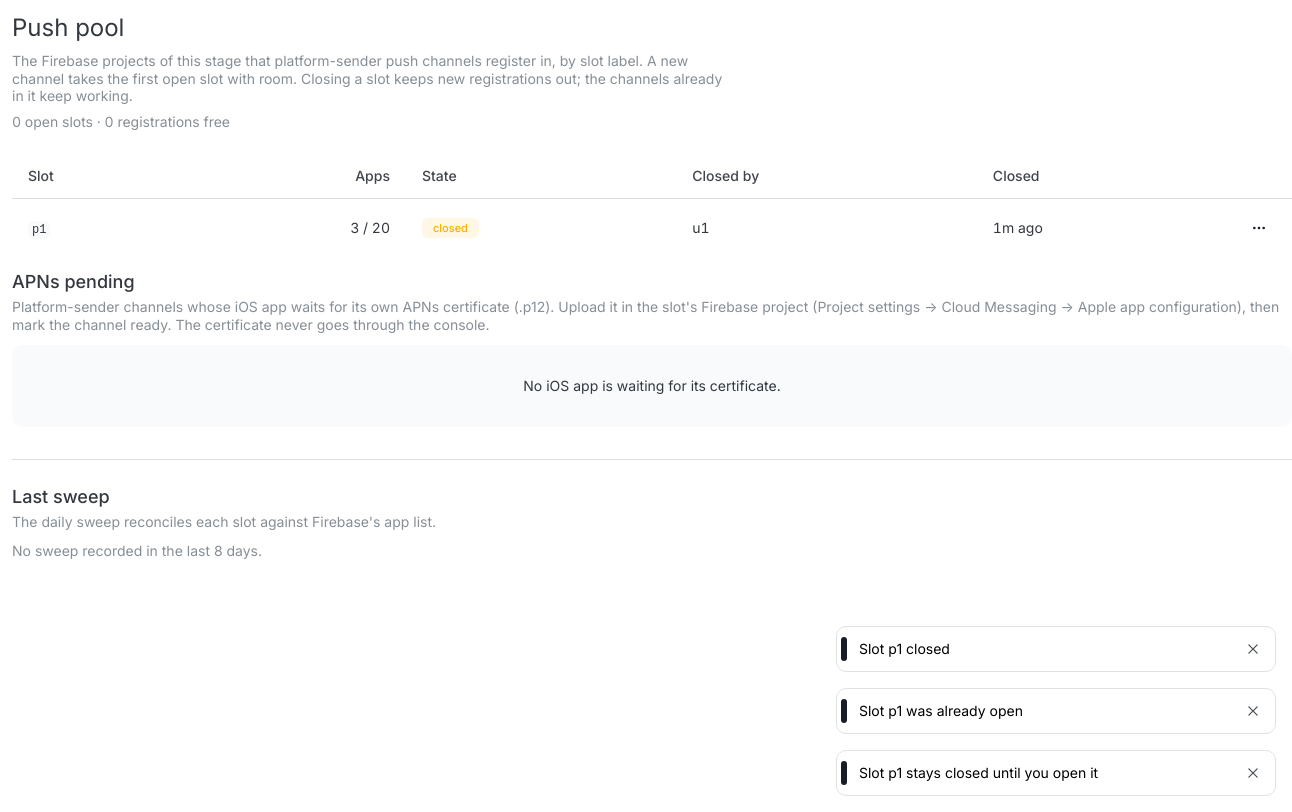
PushPoolPage › offers no takeover on a slot an admin closed
The image size is (1292, 812).
Click the button named "Actions for slot p1": [1259, 228] box [1242,211,1276,245]
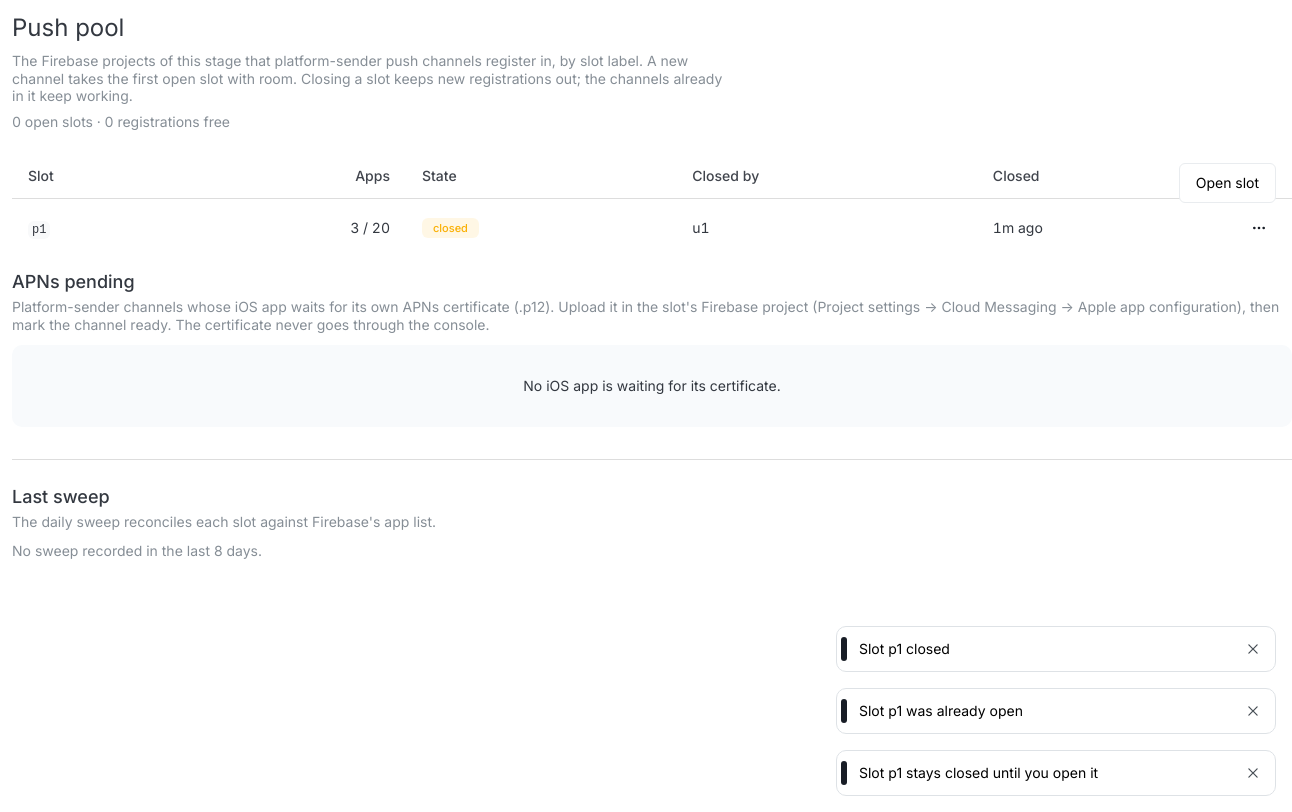
Expected: the menu item "Open slot" is shown, [1184,168,1271,198]
